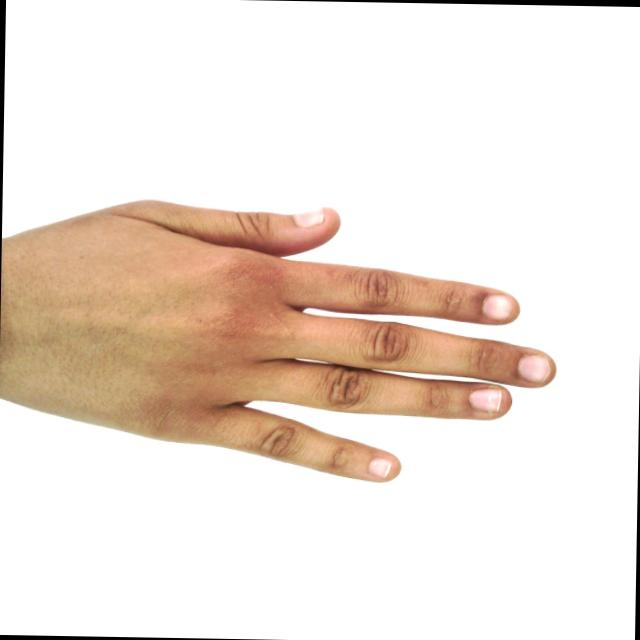Nail: (517, 352, 550, 383), (468, 386, 503, 411), (482, 292, 513, 320), (291, 205, 325, 226), (368, 455, 393, 479)
